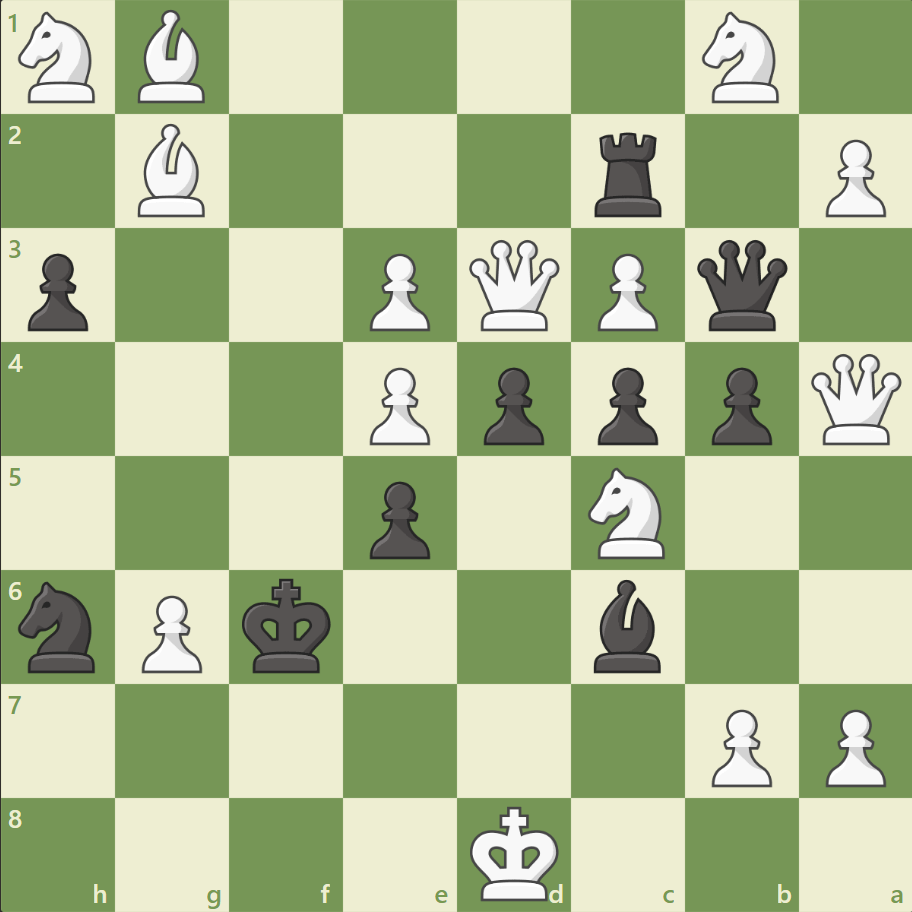B: (131, 6, 215, 109), (131, 120, 215, 222)
K: (465, 798, 565, 906)
N: (579, 461, 676, 564), (692, 7, 789, 110), (11, 7, 108, 110)
P: (701, 700, 776, 791), (133, 586, 208, 677), (815, 700, 889, 791), (361, 359, 435, 450), (588, 246, 662, 337), (361, 246, 435, 337), (815, 132, 889, 223)
Q: (805, 349, 904, 449), (464, 236, 563, 335)
b: (585, 574, 669, 676)
k: (238, 571, 338, 679)
n: (11, 575, 108, 677)
p: (701, 359, 776, 450), (474, 359, 549, 450), (20, 246, 95, 337), (361, 473, 435, 564), (588, 359, 662, 450)
q: (691, 236, 790, 335)
r: (587, 125, 670, 222)
